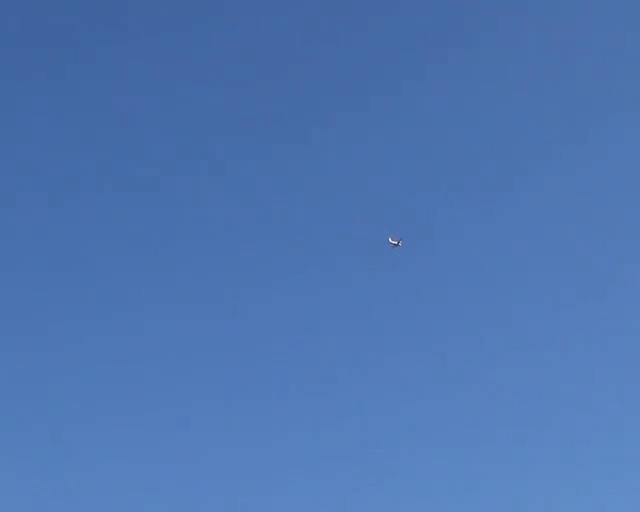AIRPLANE: (388, 235, 402, 247)
